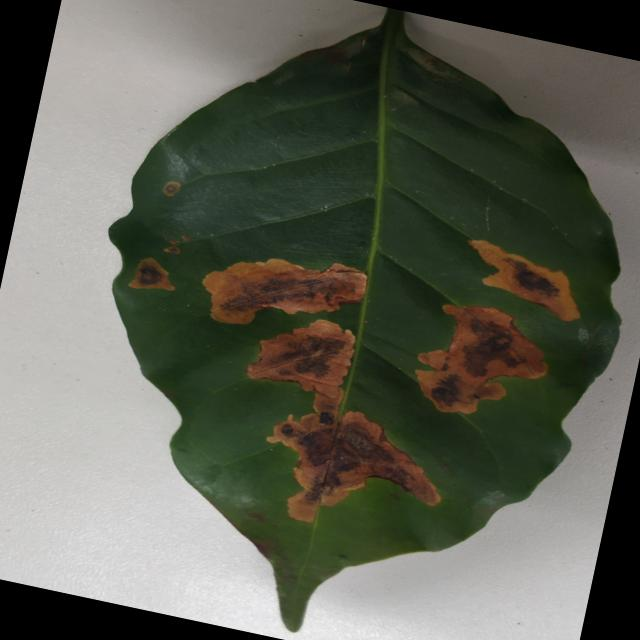KaratDaunKopi: (404, 45, 461, 80)
PengorokDaunKopi: (266, 387, 440, 522), (415, 305, 547, 413), (202, 259, 366, 324), (468, 240, 580, 321), (247, 320, 354, 396), (129, 258, 175, 290), (162, 181, 180, 196), (163, 245, 179, 254), (168, 239, 179, 244), (181, 235, 190, 241)
